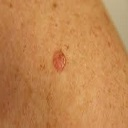Carcinoma: (47, 48, 70, 77)
